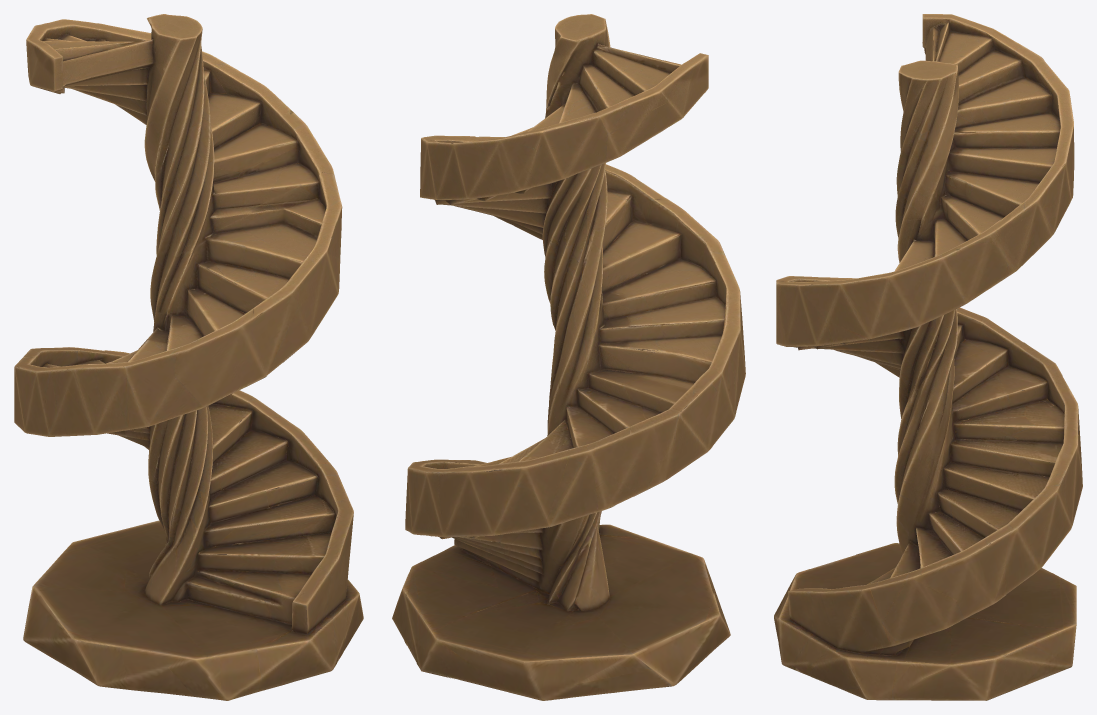
Rendered from fig-lernen.glb.
3 renders of one model, left to right at view 1: azimuth 30°, elevation 25°; view 2: azimuth 150°, elevation 25°; view 3: azimuth 270°, elevation 25°, orthographic. The views are drawn at different scales.
Parts seen in each view (by area): view 1: Mesh_0; view 2: Mesh_0; view 3: Mesh_0.
Part boxes in pixels (bbox=[...]): Mesh_0: bbox=[14, 14, 363, 700]; Mesh_0: bbox=[392, 14, 745, 700]; Mesh_0: bbox=[774, 14, 1082, 700].
Bounding box in the file's own units: 0.9759 × 1.9 × 0.9484.
Materials: 1 (1 with a texture image).
